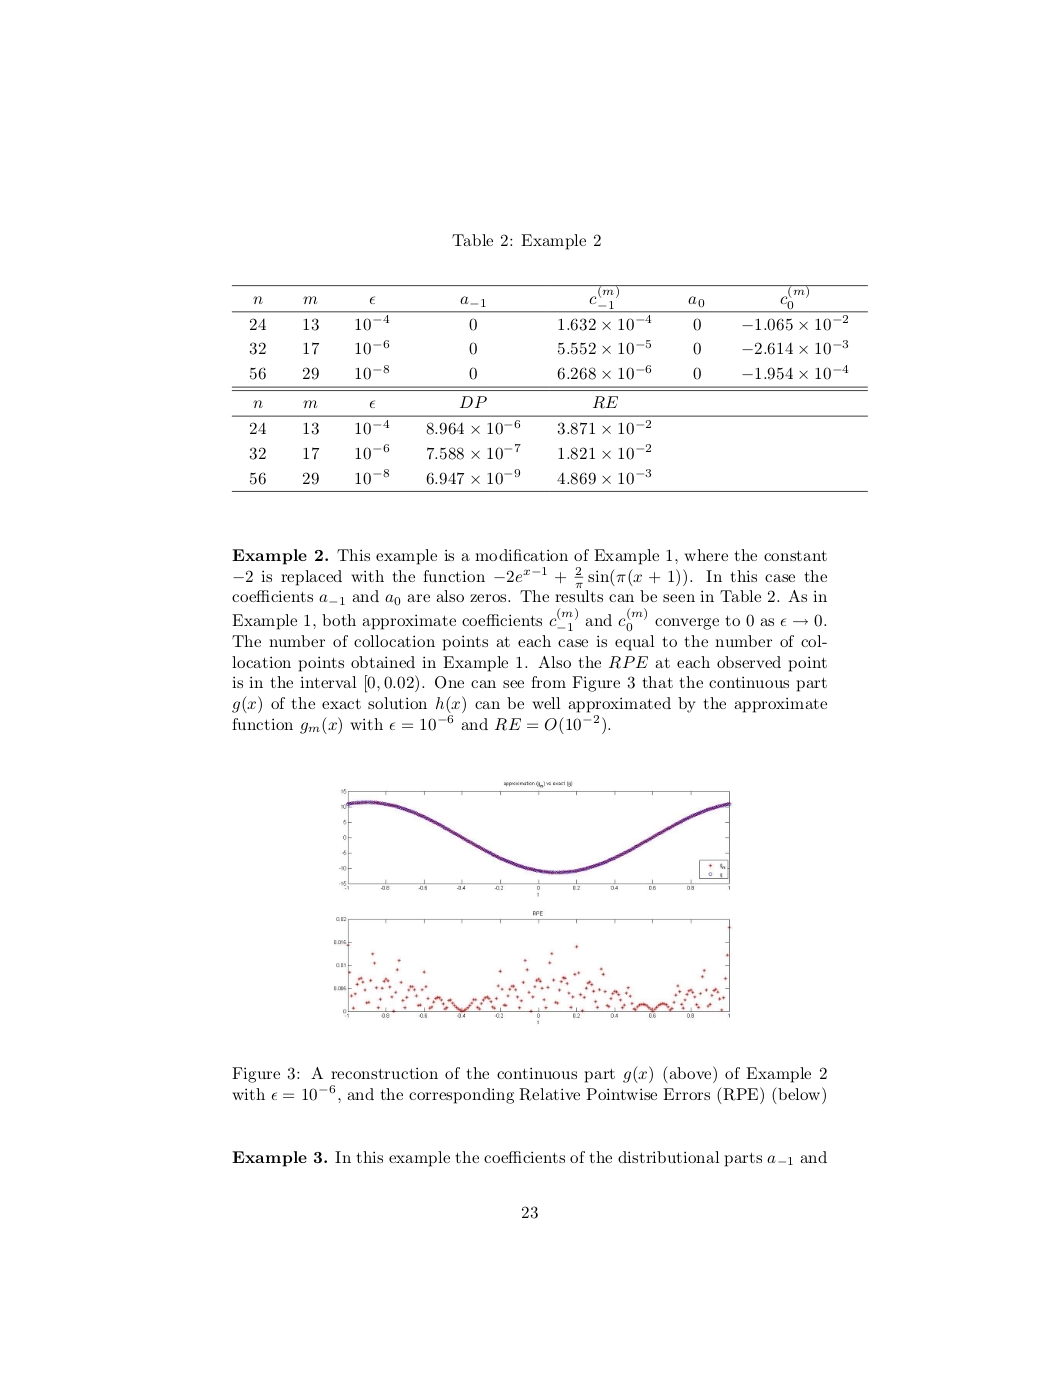Table: (231, 285, 867, 491)
figure: (339, 781, 731, 896), (334, 911, 731, 1023)
